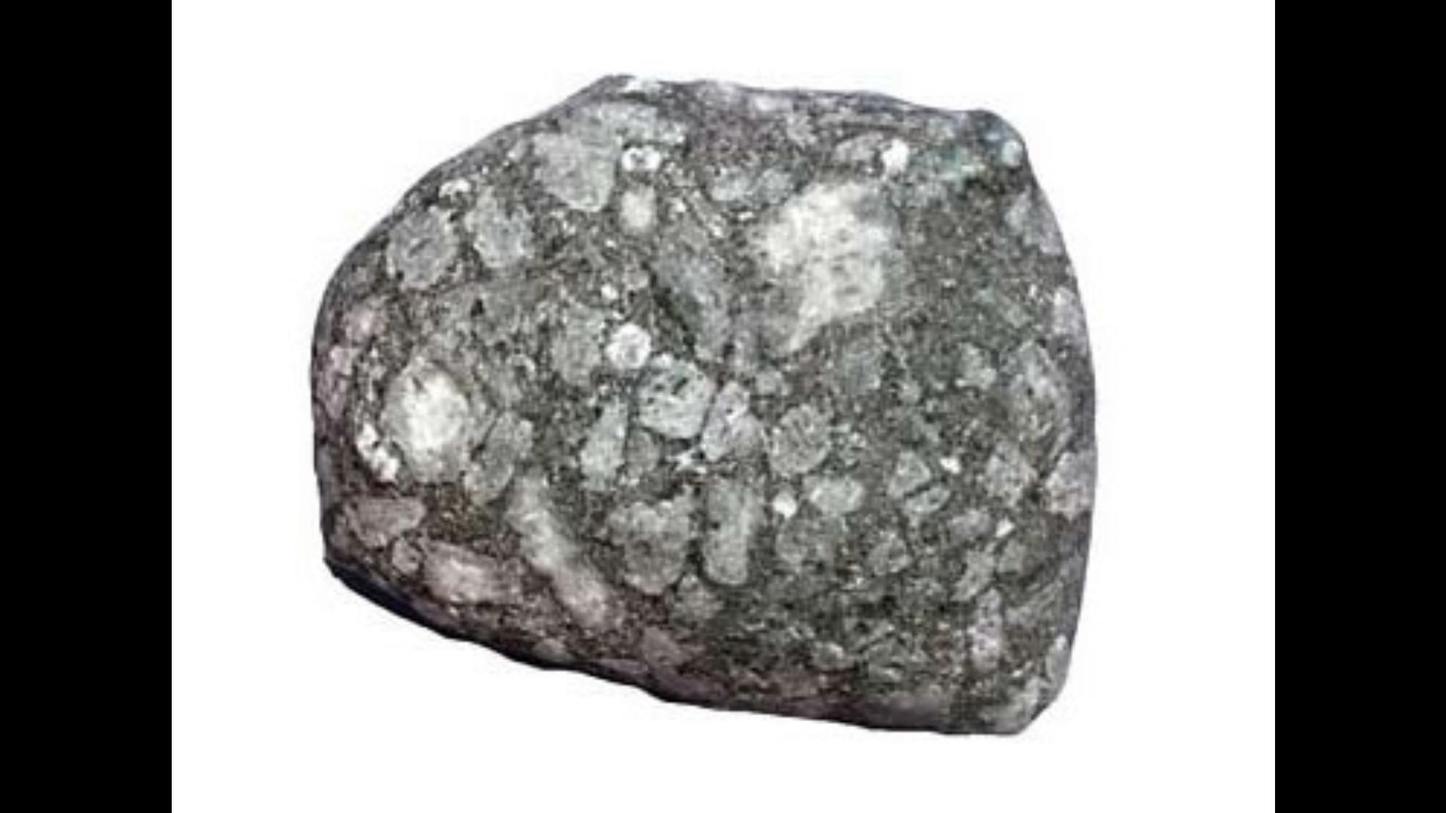rock: (313, 75, 1092, 729)
